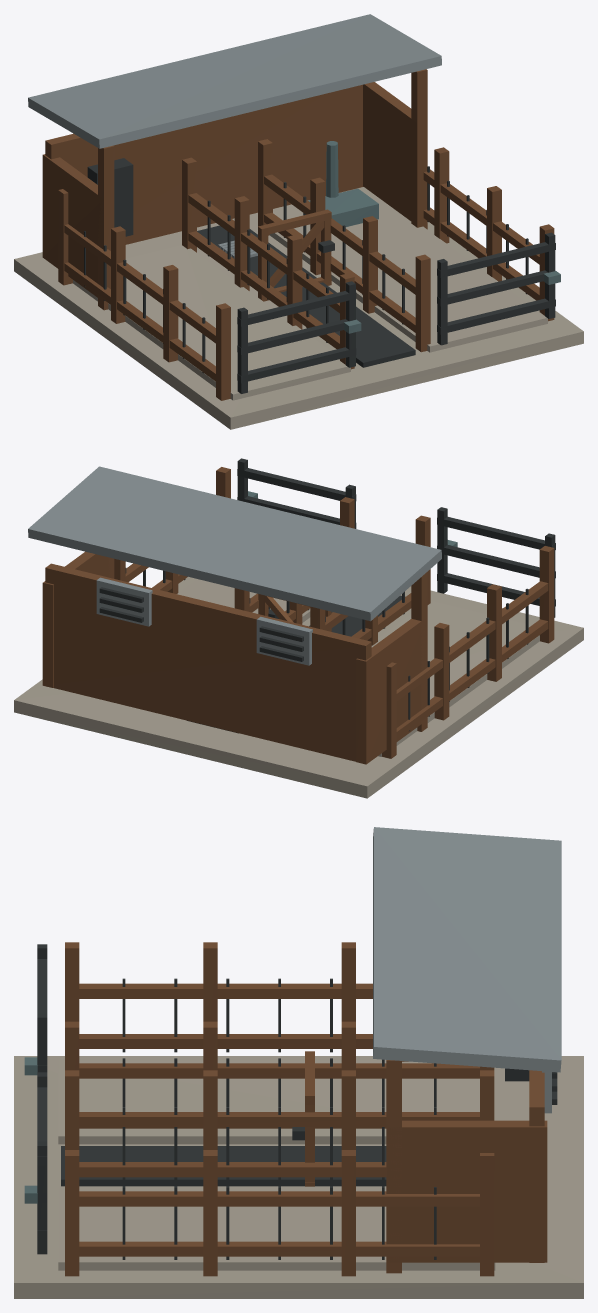
The model's file is breeding-barn.source.glb.
The picture shows the model from 3 angles, top to bottom: view 1: azimuth 30°, elevation 25°; view 2: azimuth 150°, elevation 25°; view 3: azimuth 270°, elevation 25°; orthographic projection. The views are drawn at different scales.
Parts seen in each view (by area): view 1: breeding-barn-single-slope-service-roof-mesh, breeding-barn-rear-windbreak-wall-mesh, breeding-barn-facility-slab-mesh, breeding-barn-bay-a-holding-floor-mesh, breeding-barn-bay-b-holding-floor-mesh, breeding-barn-service-side-wall-2.15-mesh, breeding-barn-service-side-wall--2.15-mesh, breeding-barn-controlled-transfer-lane-mesh, breeding-barn-service-front-post--2.15-mesh, breeding-barn-left-outer-fence-rail-0.4-mesh, breeding-barn-left-outer-fence-rail-0.9-mesh, breeding-barn-service-front-post-2.15-mesh (+34 smaller); view 2: breeding-barn-rear-windbreak-wall-mesh, breeding-barn-single-slope-service-roof-mesh, breeding-barn-facility-slab-mesh, breeding-barn-service-side-wall--2.15-mesh, breeding-barn-bay-a-holding-floor-mesh, breeding-barn-service-side-wall-2.15-mesh, breeding-barn-left-outer-fence-rail-0.4-mesh, breeding-barn-left-outer-fence-rail-0.9-mesh, breeding-barn-vent-2-frame-mesh, breeding-barn-vent-1-frame-mesh, breeding-barn-service-front-post--2.15-mesh, breeding-barn-left-outer-fence-post--0.45-mesh (+13 smaller); view 3: breeding-barn-single-slope-service-roof-mesh, breeding-barn-facility-slab-mesh, breeding-barn-service-side-wall-2.15-mesh, breeding-barn-bay-a-holding-floor-mesh, breeding-barn-bay-b-holding-floor-mesh, breeding-barn-controlled-transfer-lane-mesh, breeding-barn-right-outer-fence-rail-0.9-mesh, breeding-barn-right-outer-fence-rail-0.4-mesh, breeding-barn-left-inner-divider-rail-0.9-mesh, breeding-barn-right-inner-divider-rail-0.9-mesh, breeding-barn-right-inner-divider-rail-0.4-mesh, breeding-barn-left-outer-fence-rail-0.9-mesh (+20 smaller).
Boxes of the visible parts, x1=… form: breeding-barn-single-slope-service-roof-mesh: x1=28, y1=14, x2=441, y2=148; breeding-barn-rear-windbreak-wall-mesh: x1=45, y1=84, x2=363, y2=244; breeding-barn-facility-slab-mesh: x1=14, y1=187, x2=583, y2=429; breeding-barn-bay-a-holding-floor-mesh: x1=73, y1=245, x2=350, y2=400; breeding-barn-bay-b-holding-floor-mesh: x1=269, y1=197, x2=547, y2=352; breeding-barn-service-side-wall-2.15-mesh: x1=363, y1=82, x2=416, y2=225; breeding-barn-service-side-wall--2.15-mesh: x1=42, y1=154, x2=103, y2=297; breeding-barn-controlled-transfer-lane-mesh: x1=197, y1=225, x2=415, y2=367; breeding-barn-service-front-post--2.15-mesh: x1=98, y1=145, x2=114, y2=310; breeding-barn-left-outer-fence-rail-0.4-mesh: x1=64, y1=262, x2=215, y2=381; breeding-barn-left-outer-fence-rail-0.9-mesh: x1=64, y1=224, x2=215, y2=343; breeding-barn-service-front-post-2.15-mesh: x1=411, y1=69, x2=427, y2=229; breeding-barn-rear-windbreak-wall-mesh: x1=45, y1=563, x2=371, y2=761; breeding-barn-single-slope-service-roof-mesh: x1=28, y1=466, x2=441, y2=621; breeding-barn-facility-slab-mesh: x1=14, y1=576, x2=583, y2=798; breeding-barn-service-side-wall--2.15-mesh: x1=356, y1=617, x2=427, y2=764; breeding-barn-bay-a-holding-floor-mesh: x1=371, y1=601, x2=539, y2=756; breeding-barn-service-side-wall-2.15-mesh: x1=42, y1=551, x2=111, y2=687; breeding-barn-left-outer-fence-rail-0.4-mesh: x1=396, y1=619, x2=548, y2=739; breeding-barn-left-outer-fence-rail-0.9-mesh: x1=396, y1=581, x2=548, y2=701; breeding-barn-vent-2-frame-mesh: x1=96, y1=577, x2=152, y2=626; breeding-barn-vent-1-frame-mesh: x1=256, y1=616, x2=312, y2=665; breeding-barn-service-front-post--2.15-mesh: x1=411, y1=572, x2=427, y2=731; breeding-barn-left-outer-fence-post--0.45-mesh: x1=434, y1=623, x2=449, y2=720; breeding-barn-single-slope-service-roof-mesh: x1=373, y1=827, x2=561, y2=1072; breeding-barn-facility-slab-mesh: x1=14, y1=1056, x2=583, y2=1298; breeding-barn-service-side-wall-2.15-mesh: x1=387, y1=1120, x2=547, y2=1262; breeding-barn-bay-a-holding-floor-mesh: x1=58, y1=1060, x2=495, y2=1144; breeding-barn-bay-b-holding-floor-mesh: x1=58, y1=1186, x2=495, y2=1270; breeding-barn-controlled-transfer-lane-mesh: x1=61, y1=1146, x2=386, y2=1186; breeding-barn-right-outer-fence-rail-0.9-mesh: x1=79, y1=1191, x2=479, y2=1206; breeding-barn-right-outer-fence-rail-0.4-mesh: x1=79, y1=1241, x2=479, y2=1256; breeding-barn-left-inner-divider-rail-0.9-mesh: x1=79, y1=1063, x2=479, y2=1078; breeding-barn-right-inner-divider-rail-0.9-mesh: x1=79, y1=1112, x2=479, y2=1126; breeding-barn-right-inner-divider-rail-0.4-mesh: x1=79, y1=1162, x2=386, y2=1177; breeding-barn-left-outer-fence-rail-0.9-mesh: x1=79, y1=983, x2=372, y2=998.
Bounding box in the file's own units: 4.85 × 2.48 × 5.15.
